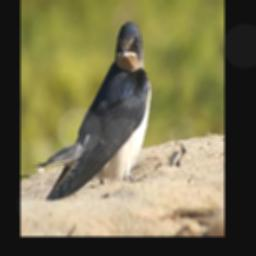Swallow: (32, 20, 151, 199)
